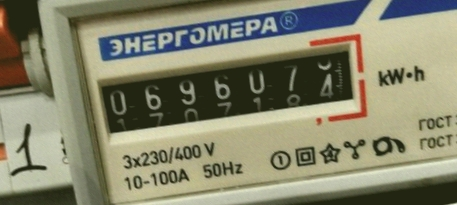0: (108, 85, 132, 118), (247, 64, 270, 96)
4: (316, 70, 339, 101)
6: (142, 80, 167, 112), (213, 70, 236, 101)
7: (282, 60, 303, 92)
9: (178, 76, 200, 107)
screen: (81, 26, 375, 154)
